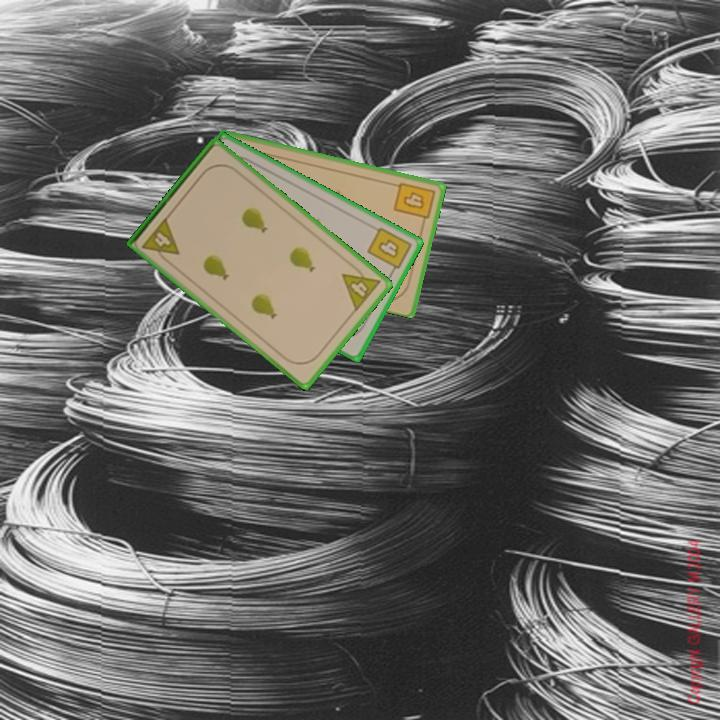4b: (364, 223, 415, 278), (390, 178, 438, 228)
4p: (338, 260, 384, 314), (139, 213, 182, 267)
